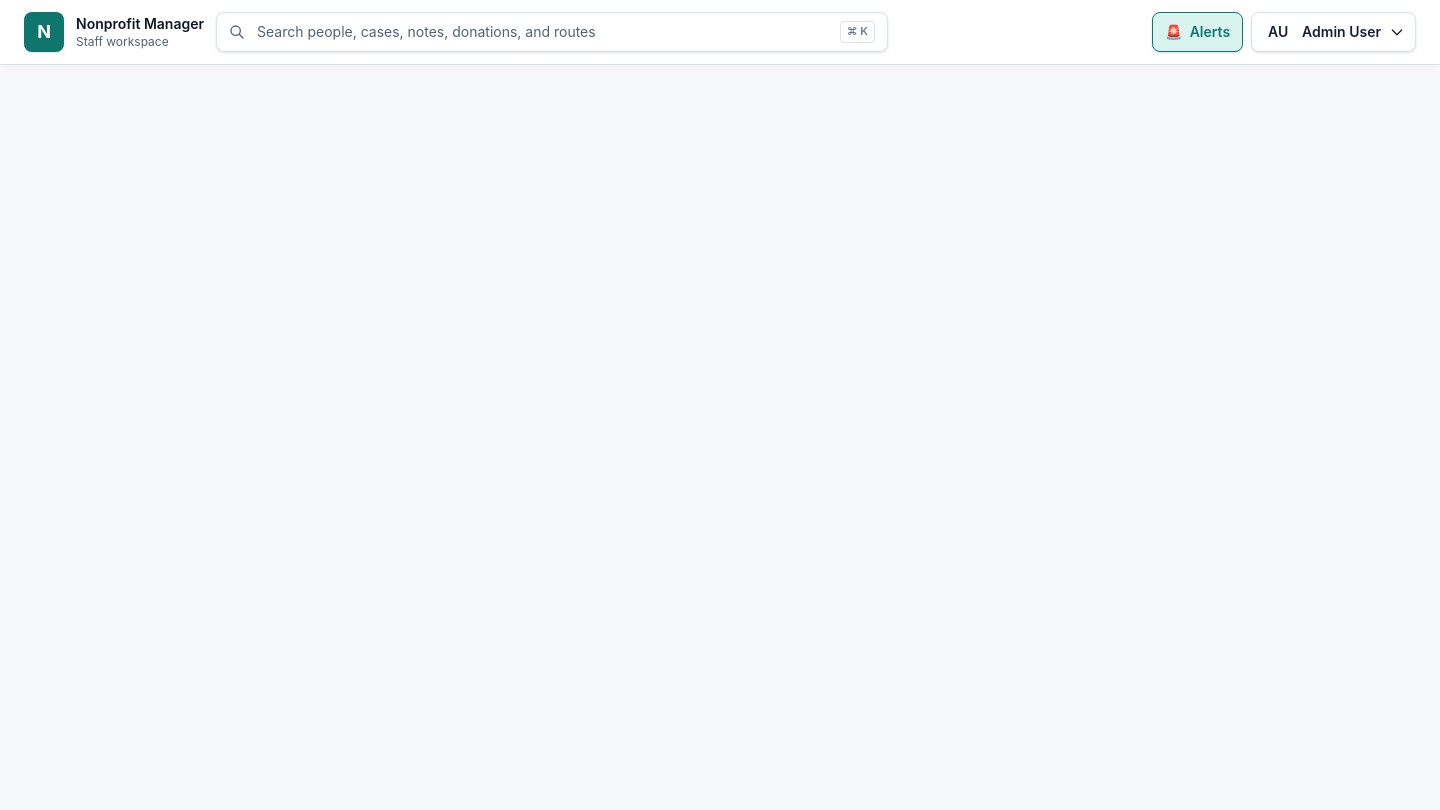
Scenario: Navigation › opens and closes the search dialog while restoring focus
Click the button "Search people, cases, notes, donations, and routes ⌘ K" at (552, 32), box 216,12 -> 888,52
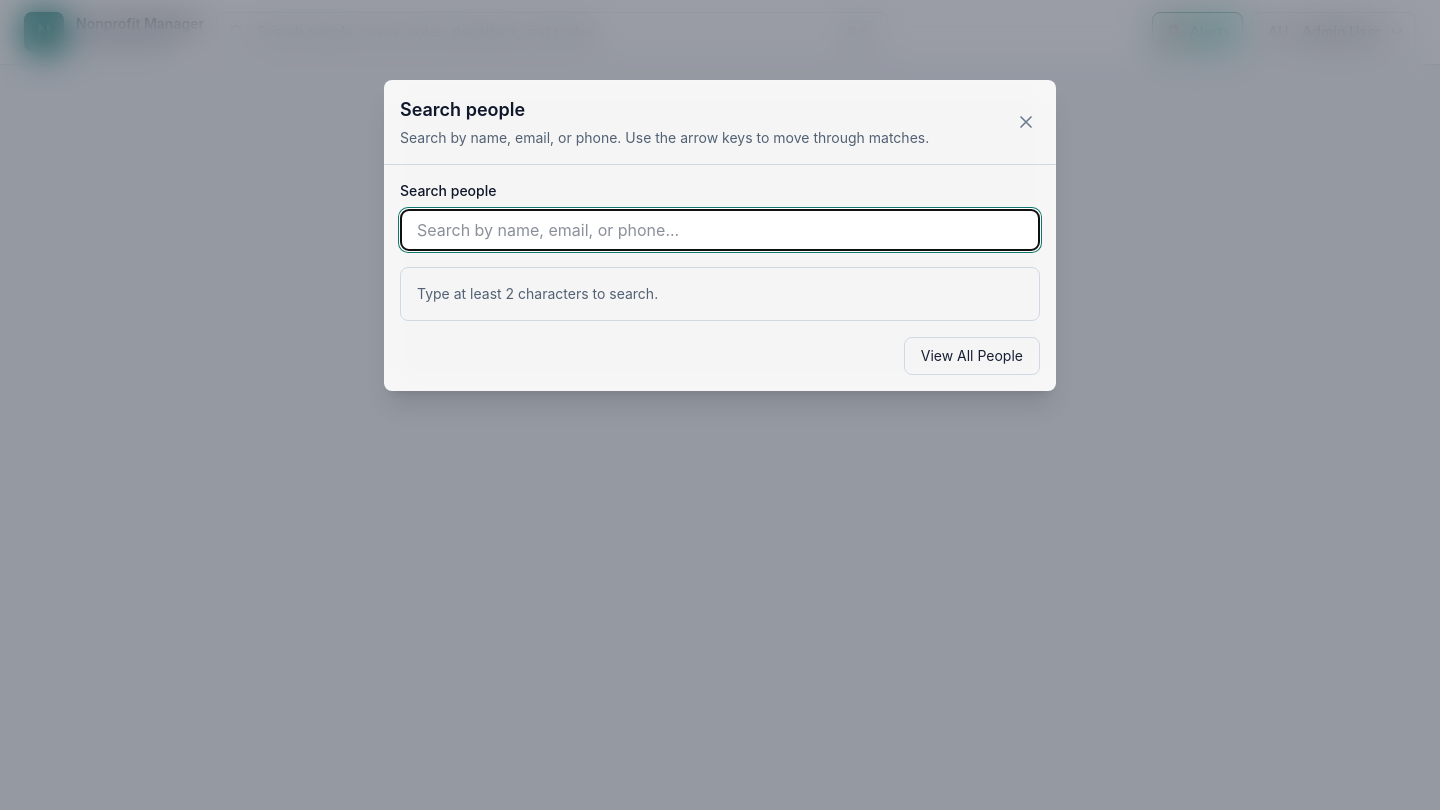
Result: the dialog "Search people" is shown at 384,80 -> 1056,391
Click the button named "close search dialog" at (1026, 122), box 1012,108 -> 1040,136
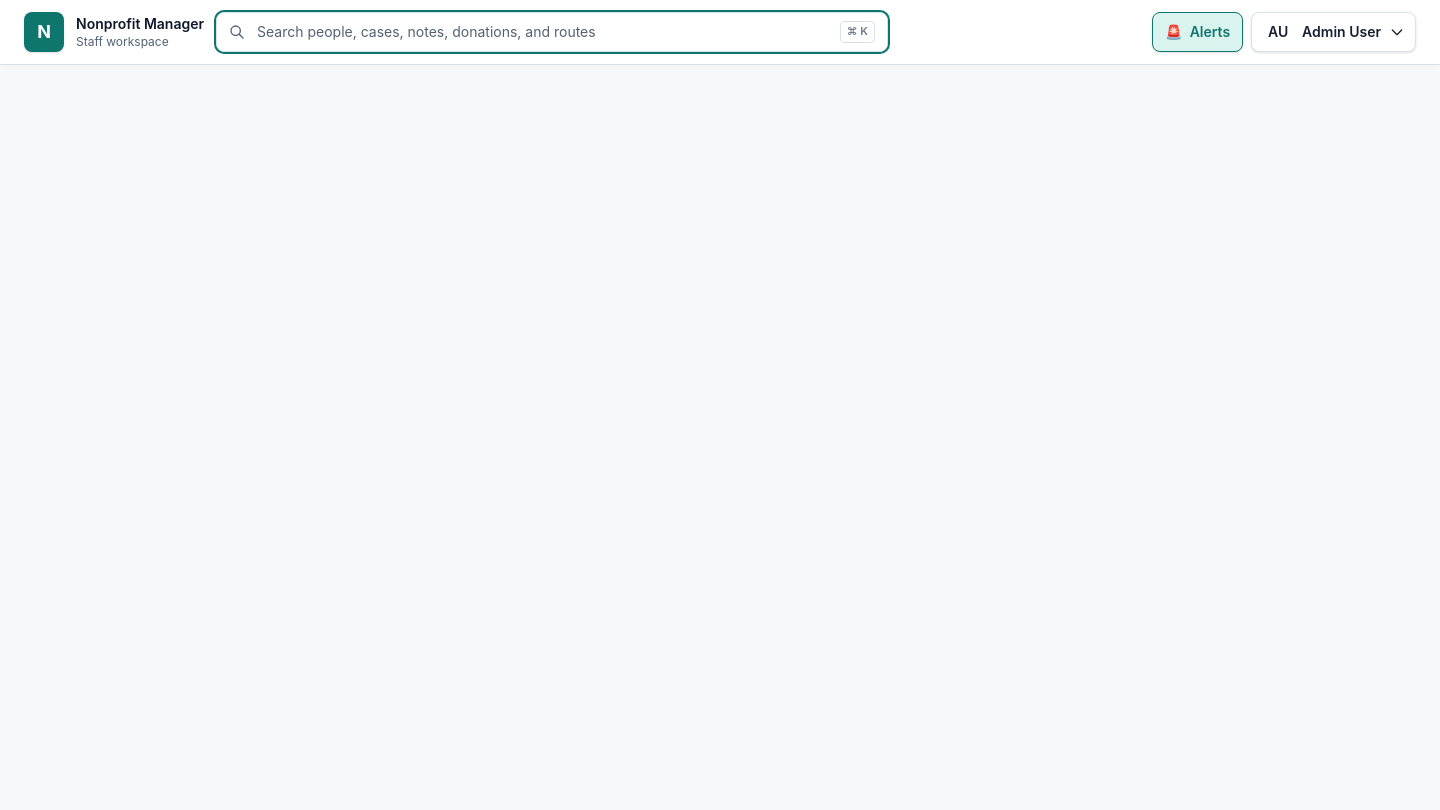
Result: the button "Search people, cases, notes, donations, and routes ⌘ K" is collapsed at 216,12 -> 888,52
